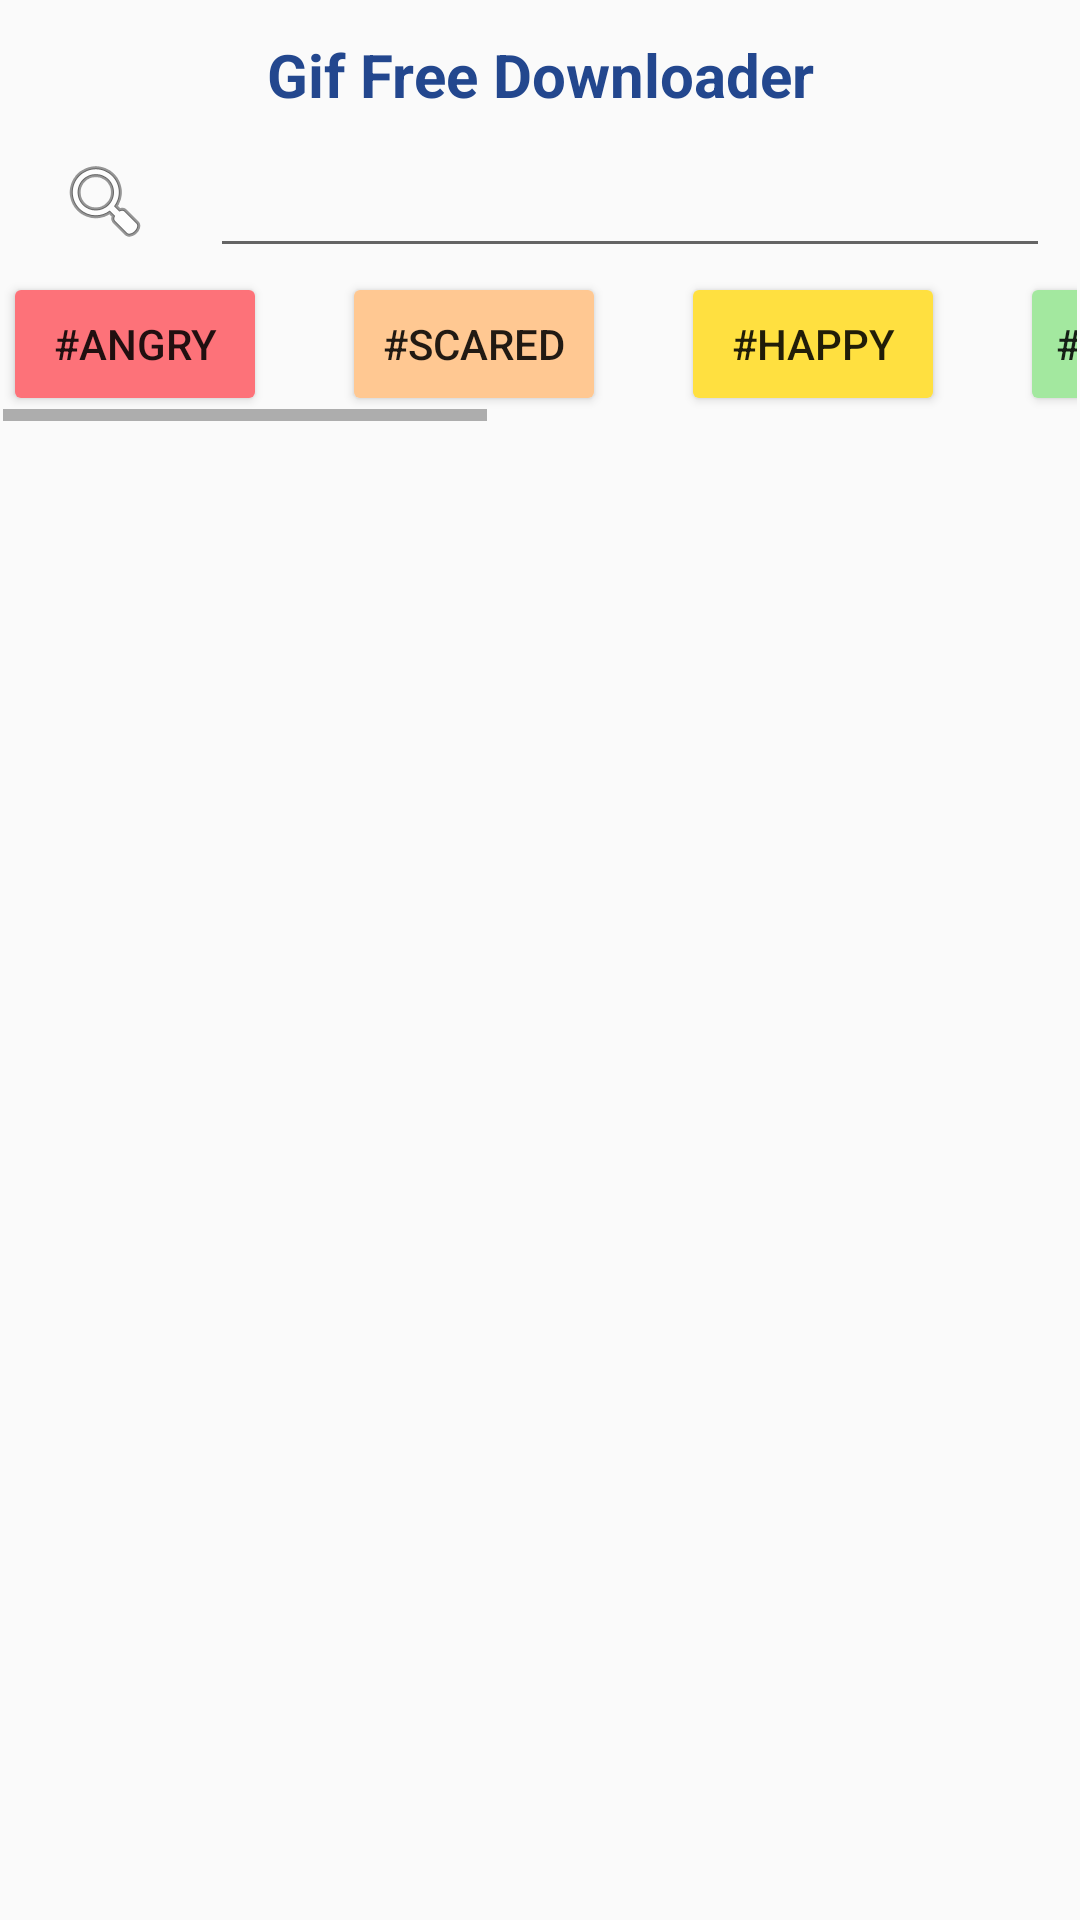

Named icons in this screenshot (1080px×1920px) and their bounding boxes, (x1, y1, x2, y2):
search: (69, 166, 141, 237)
